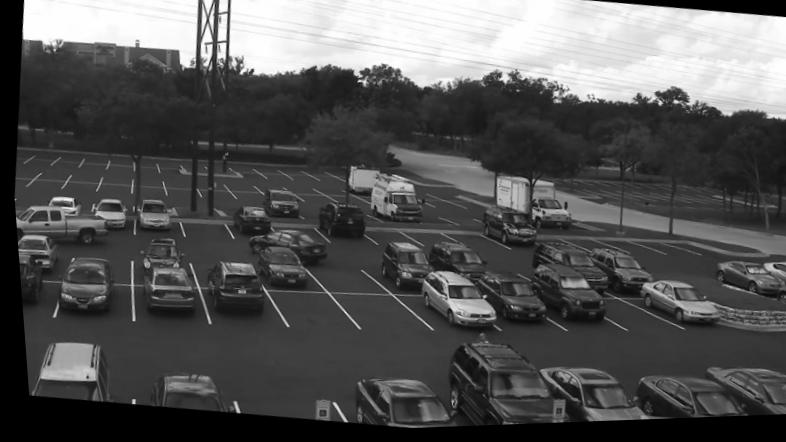empty: (226, 382, 339, 425), (331, 297, 421, 336), (598, 301, 675, 337), (306, 258, 384, 292), (264, 294, 341, 327), (177, 220, 233, 242), (75, 241, 125, 263), (399, 231, 453, 250), (445, 235, 502, 252), (191, 249, 235, 270), (272, 227, 322, 245), (490, 260, 532, 279), (12, 190, 49, 208), (365, 228, 409, 243), (413, 197, 459, 211), (93, 184, 131, 199), (61, 180, 98, 195), (560, 243, 606, 254), (12, 211, 40, 229), (626, 247, 681, 256), (67, 170, 100, 184), (227, 165, 260, 179), (159, 189, 200, 200), (195, 191, 236, 202), (27, 178, 64, 190), (598, 247, 647, 256), (188, 180, 224, 192), (130, 186, 163, 199), (295, 197, 333, 207), (130, 162, 159, 175), (220, 180, 254, 191), (99, 174, 131, 185), (161, 177, 193, 188), (297, 207, 324, 220), (153, 163, 182, 175), (58, 189, 87, 201), (327, 197, 365, 206), (129, 177, 163, 187), (258, 171, 288, 182), (106, 159, 132, 171), (38, 169, 69, 179), (282, 184, 316, 193), (218, 204, 241, 217), (249, 182, 282, 191), (82, 158, 105, 170), (29, 155, 54, 166), (311, 186, 345, 194), (13, 166, 40, 176), (228, 192, 261, 200), (284, 173, 312, 182), (54, 158, 79, 168), (307, 174, 338, 182), (12, 176, 32, 187), (14, 152, 33, 163)
occupied: (433, 344, 565, 429), (335, 378, 453, 431), (531, 372, 643, 426), (23, 341, 110, 403), (629, 379, 743, 424), (407, 272, 492, 332), (526, 267, 601, 325), (701, 371, 786, 421), (470, 274, 547, 328), (198, 261, 266, 317), (635, 285, 715, 330), (54, 255, 109, 313), (147, 373, 217, 413), (139, 265, 193, 315), (367, 177, 420, 226), (480, 209, 537, 254), (713, 267, 779, 305), (423, 245, 484, 286), (589, 253, 645, 297), (376, 246, 429, 292), (530, 246, 599, 279), (255, 248, 308, 290), (314, 206, 362, 244), (15, 252, 44, 307), (14, 235, 55, 266), (230, 207, 266, 240), (42, 196, 78, 229), (135, 239, 174, 268), (262, 191, 299, 220), (135, 201, 168, 230), (91, 200, 123, 229), (772, 291, 786, 311)
